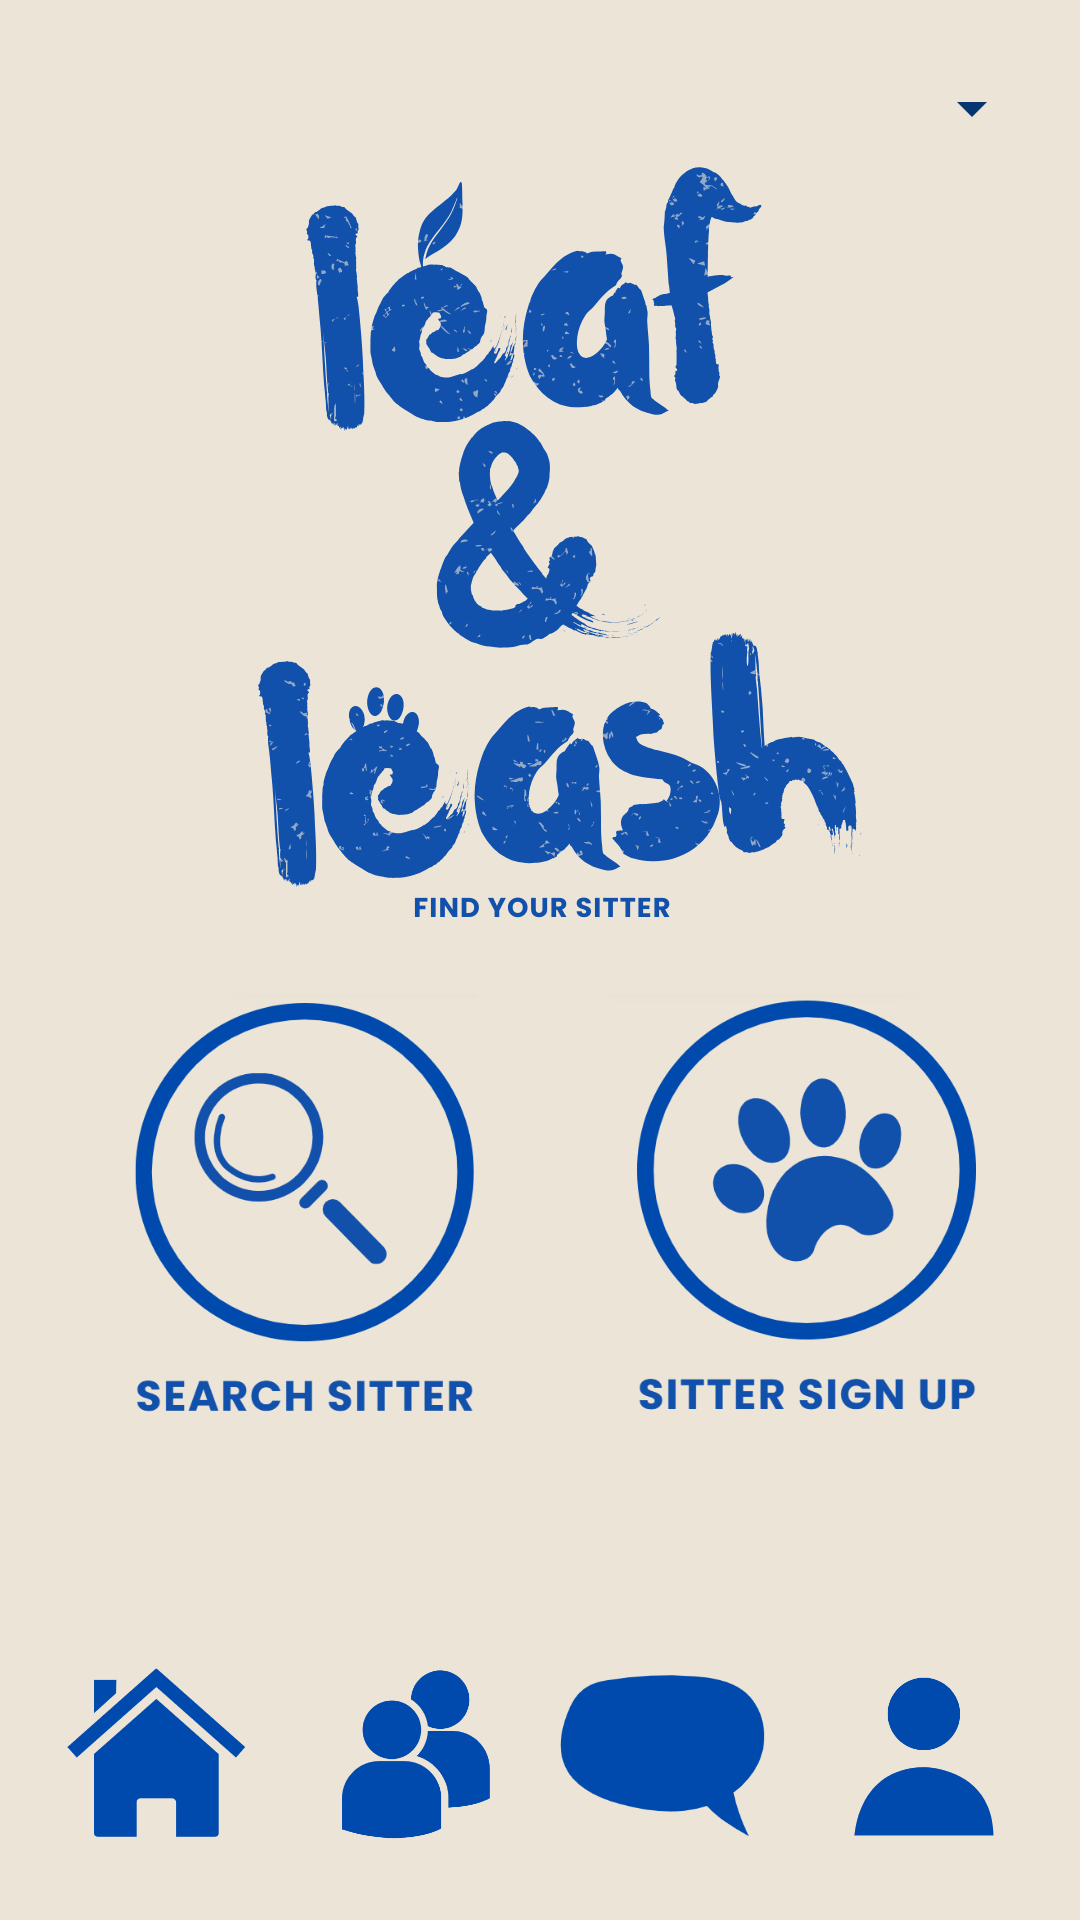

Screen size 1080×1920. Icon name, then its center in pixels as (x=x, y=y):
Chat: (x=662, y=1755)
Community: (x=416, y=1754)
Home: (x=156, y=1752)
Profile: (x=924, y=1756)
